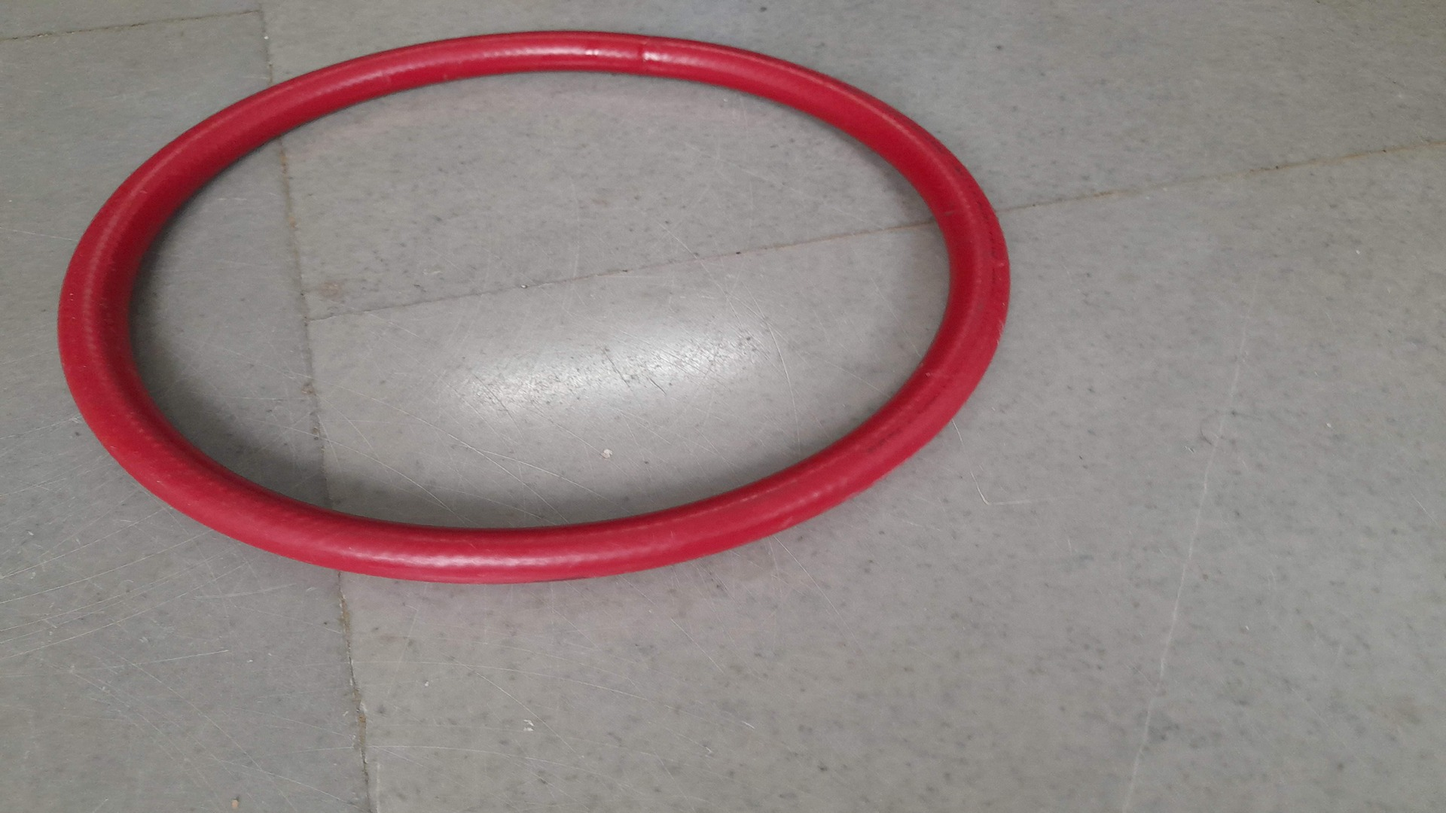Red ring: (58, 33, 1009, 584)
